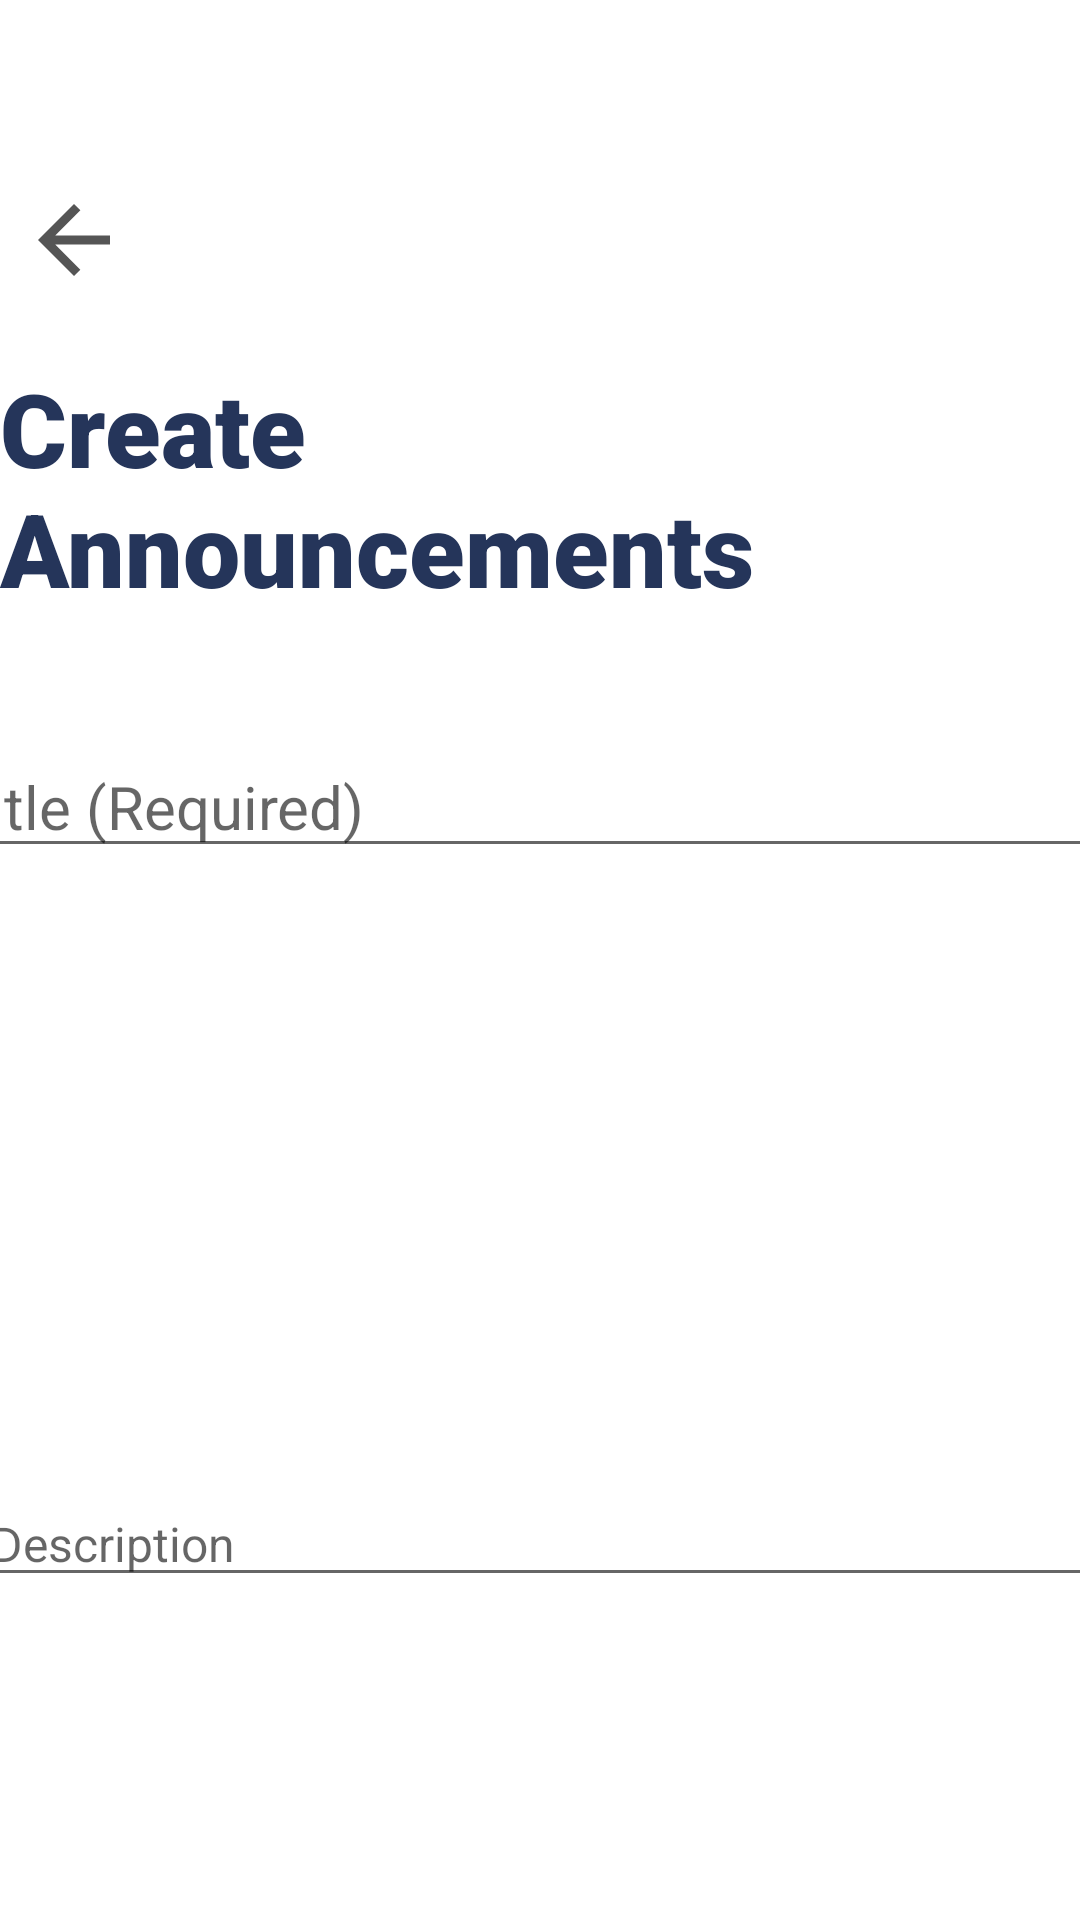

Locate icon controls on the screen. Image size 1080 x 1920, boxes as (x1, y1, x2, y2).
arrow back: (38, 204, 110, 276)
